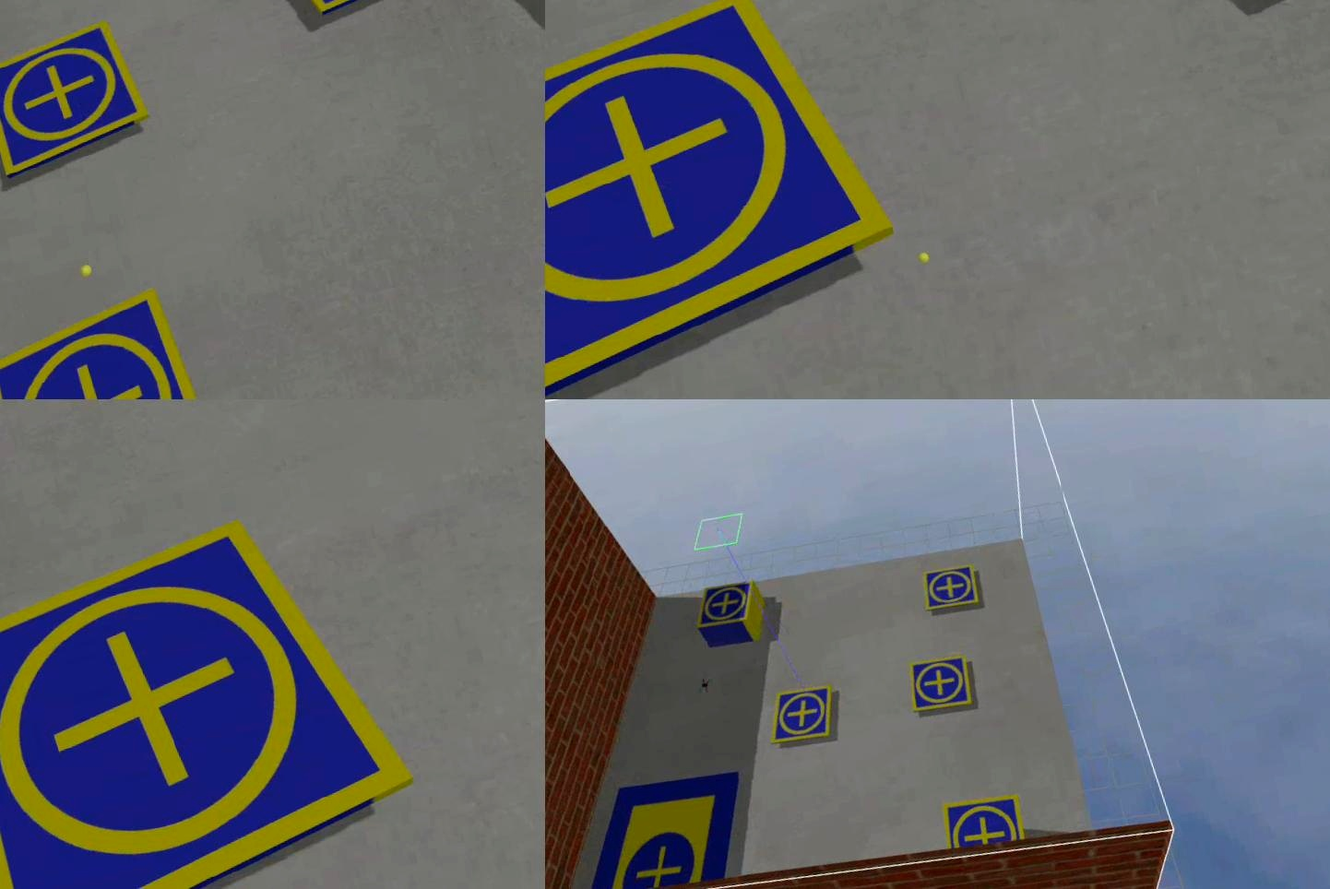large_base: (568, 760, 760, 889)
small_base: (1, 491, 444, 889), (545, 1, 918, 400), (1, 282, 236, 400), (1, 16, 157, 180), (938, 786, 1029, 861), (762, 681, 844, 751), (903, 649, 980, 719), (693, 575, 763, 635), (915, 560, 985, 619)
